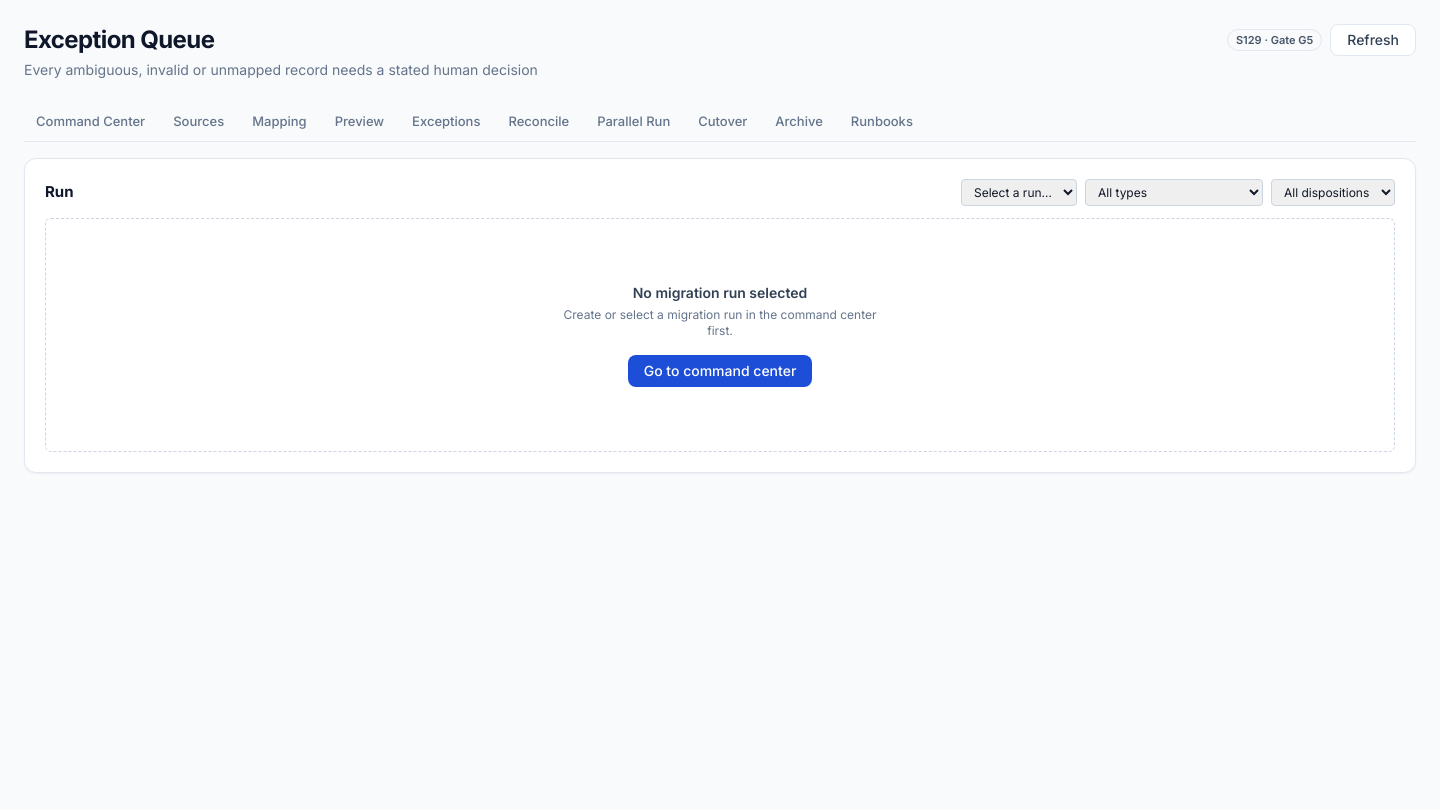
Test: MigrationExceptions › blocks G5 while blocking exceptions are still pending
This screenshot has width=1440, height=810.
Select "run-a" in the dropdown with test id "exceptions-run-select" at (1019, 192), box x1=961 y1=178 x2=1077 y2=206
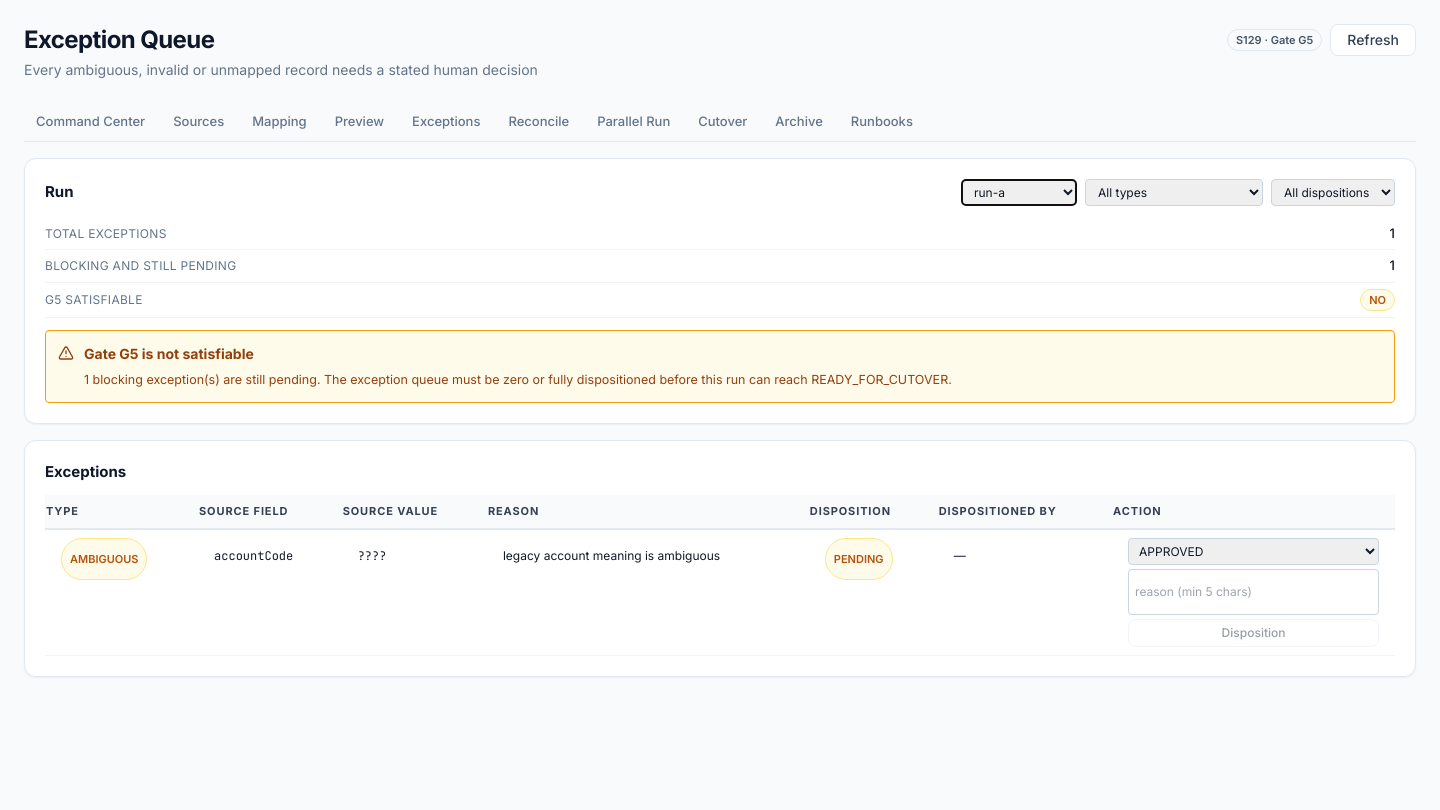
Now the element with test id "exceptions-g5-blocked" is shown, box x1=45 y1=330 x2=1395 y2=403
Now the element with test id "exceptions-g5" reads "NO", box x1=1369 y1=292 x2=1386 y2=306
Now the text with test id "exceptions-blocking-pending" reads "1", box x1=1390 y1=257 x2=1395 y2=273
